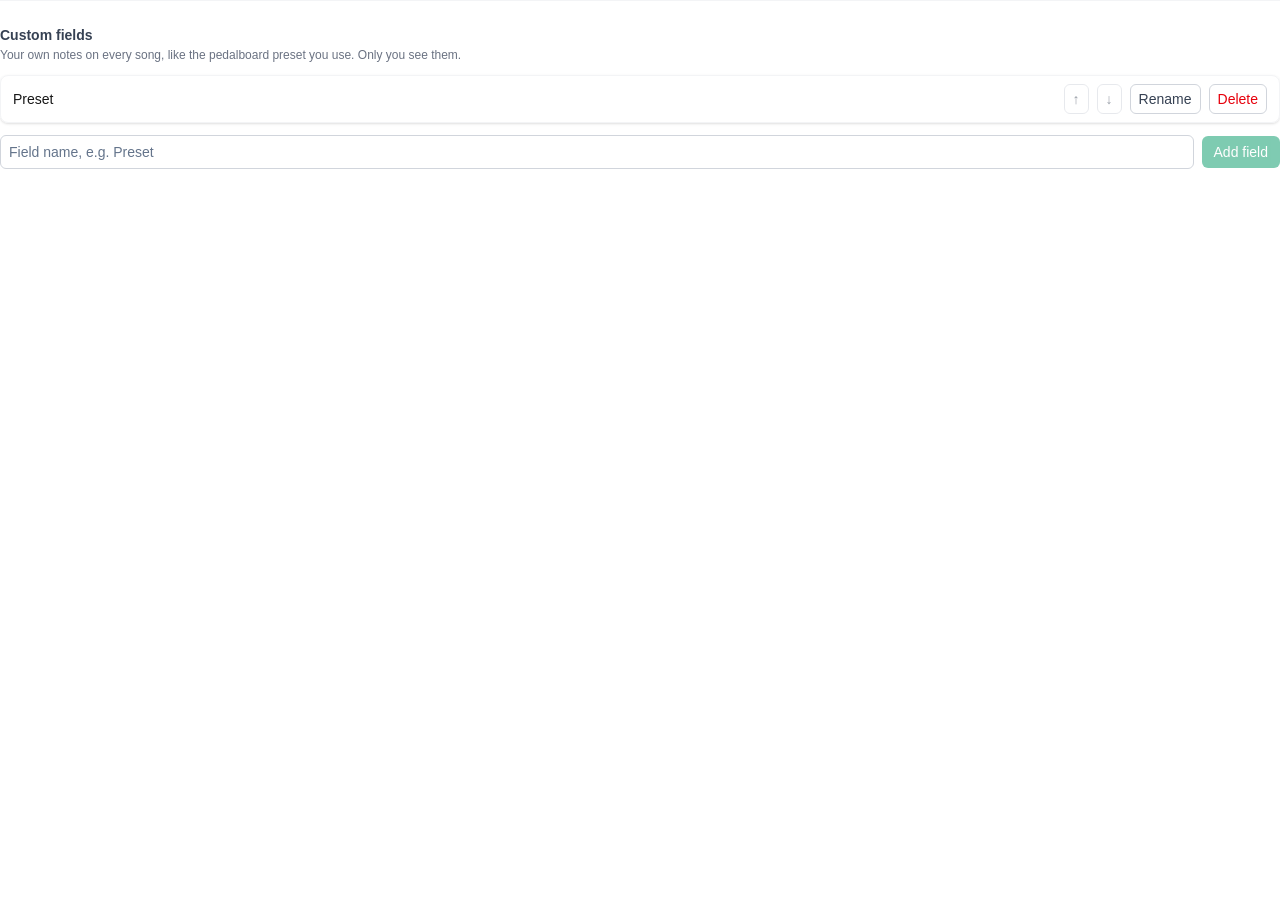
Test case: CustomFieldsSettingsSection › deletes only through the confirmation panel (ER3)
The width and height of the screenshot is (1280, 900).
Click the button with aria-label "Delete Preset": coordinates (1238, 99) [1208,84,1267,114]
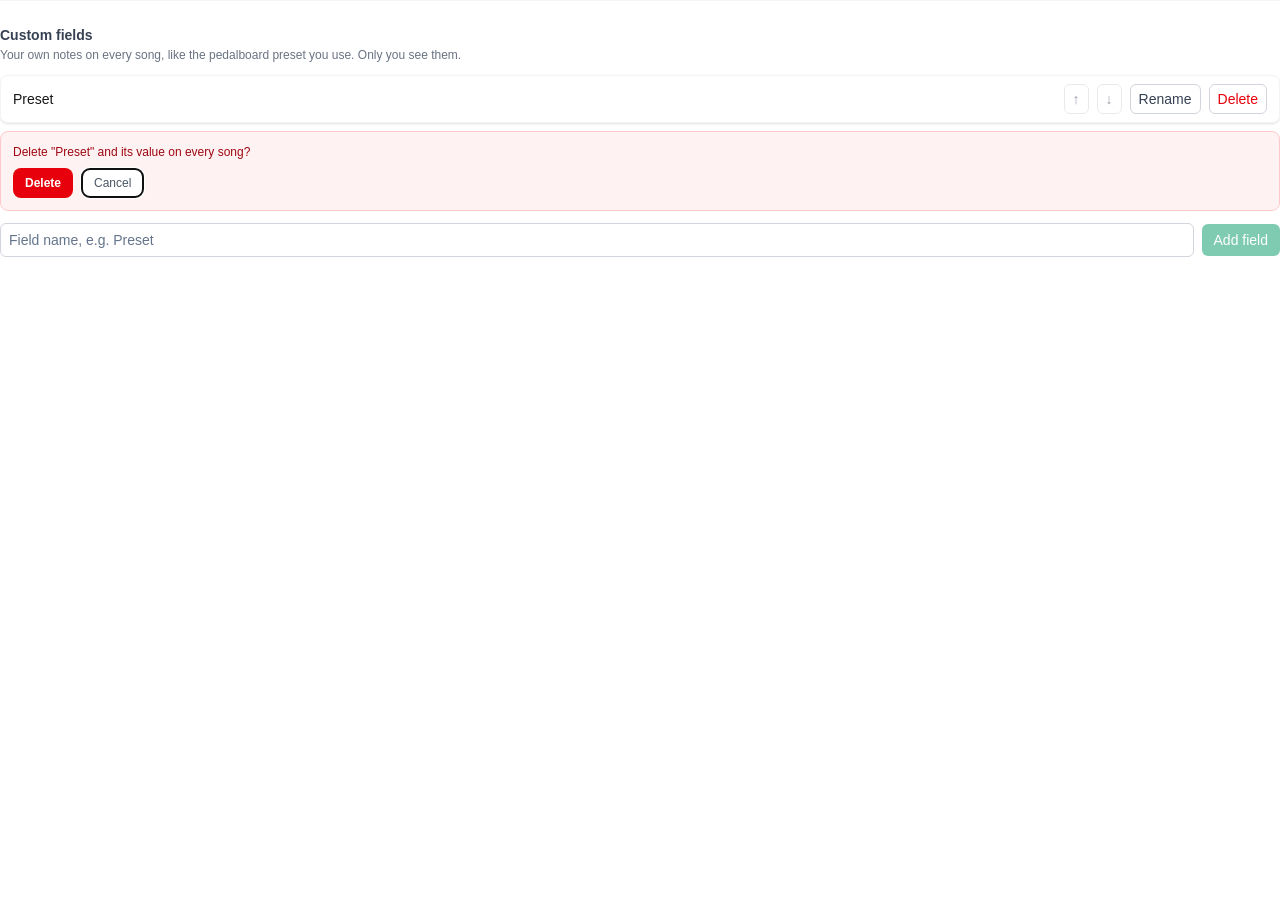
Expected: the text "Delete \"Preset\" and its value on every song?" is shown, [13,145,250,159]
Click the 2nd button "Delete": coordinates (43, 183) [13,168,73,198]
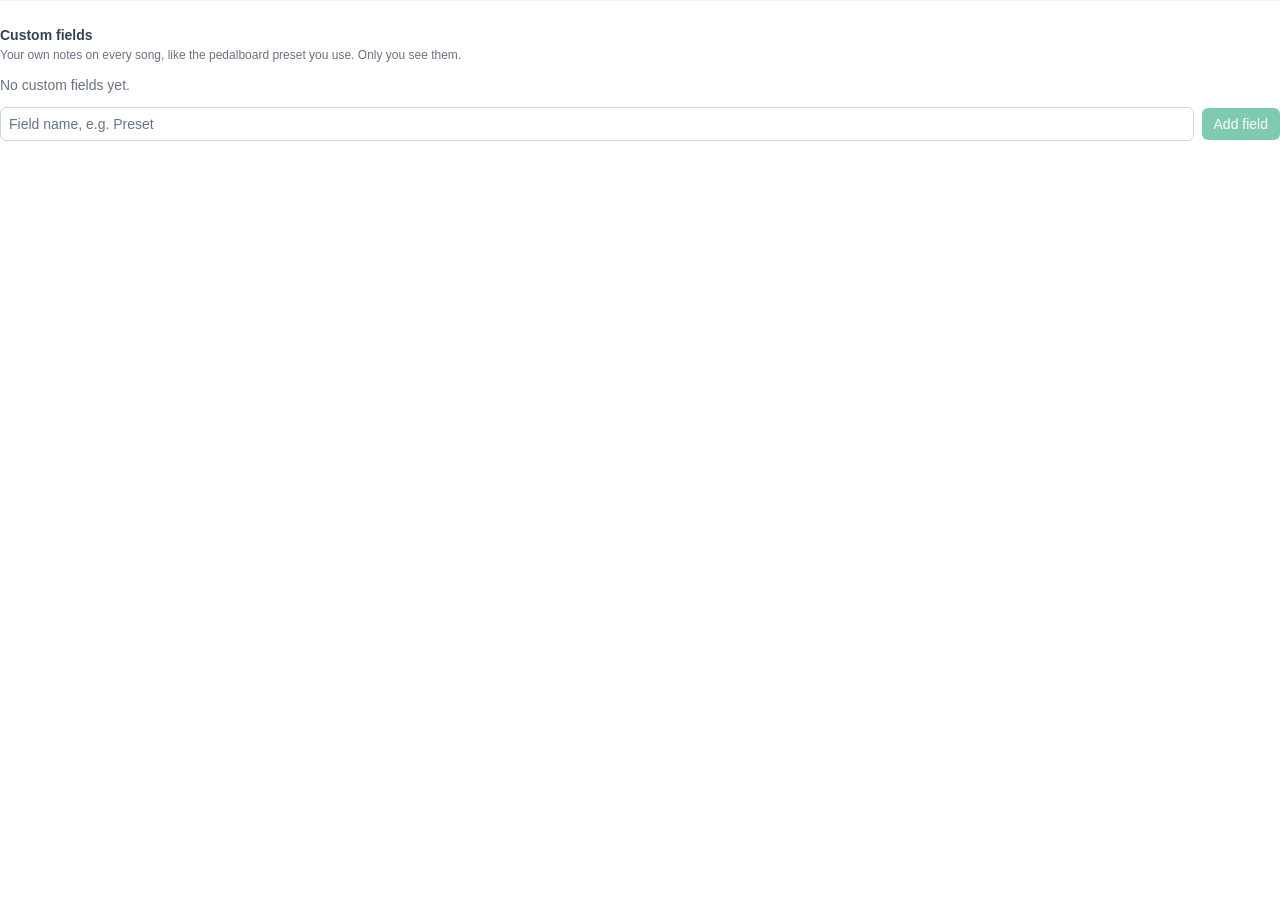
Expected: the text "No custom fields yet." is shown, [0,77,130,93]
